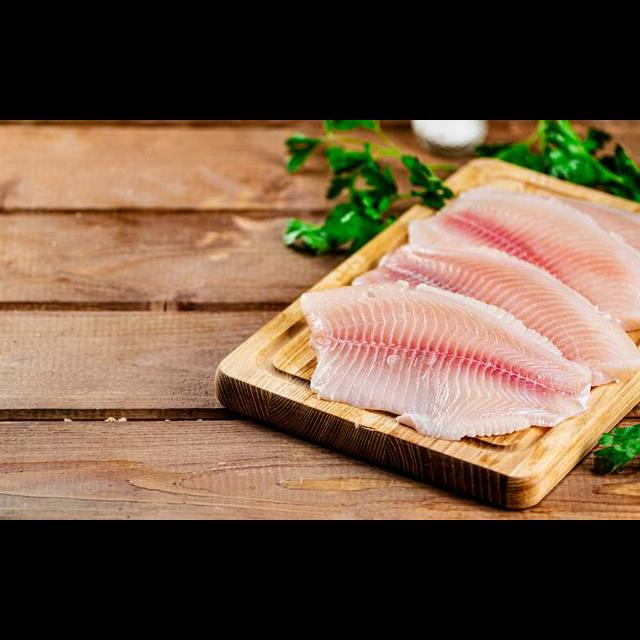fish: (290, 283, 595, 437)
